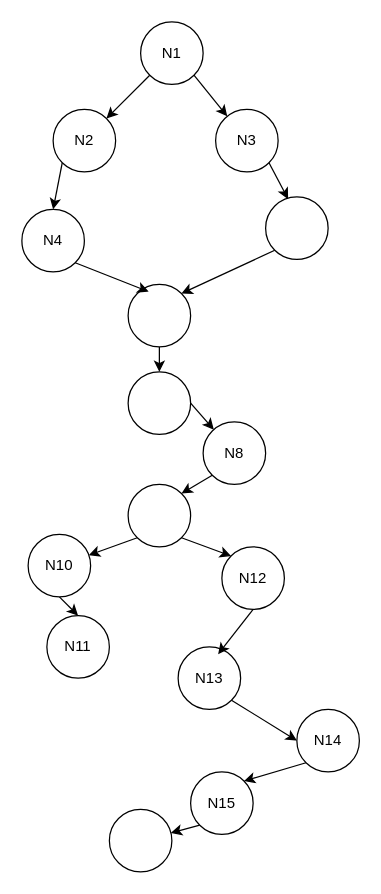
This 381x894 diagram has some shape labels left out. The box of each missing label's shape, as (x1, y1, x2, y2) in pixels:
N16: (108, 808, 172, 872)
N5: (264, 196, 328, 259)
N6: (127, 283, 191, 347)
N7: (127, 371, 191, 434)
N9: (127, 483, 191, 547)
